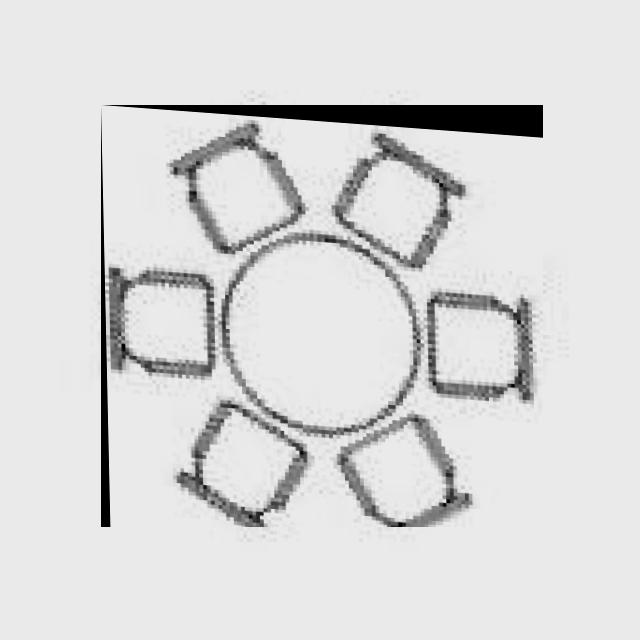table: (101, 105, 543, 527)
